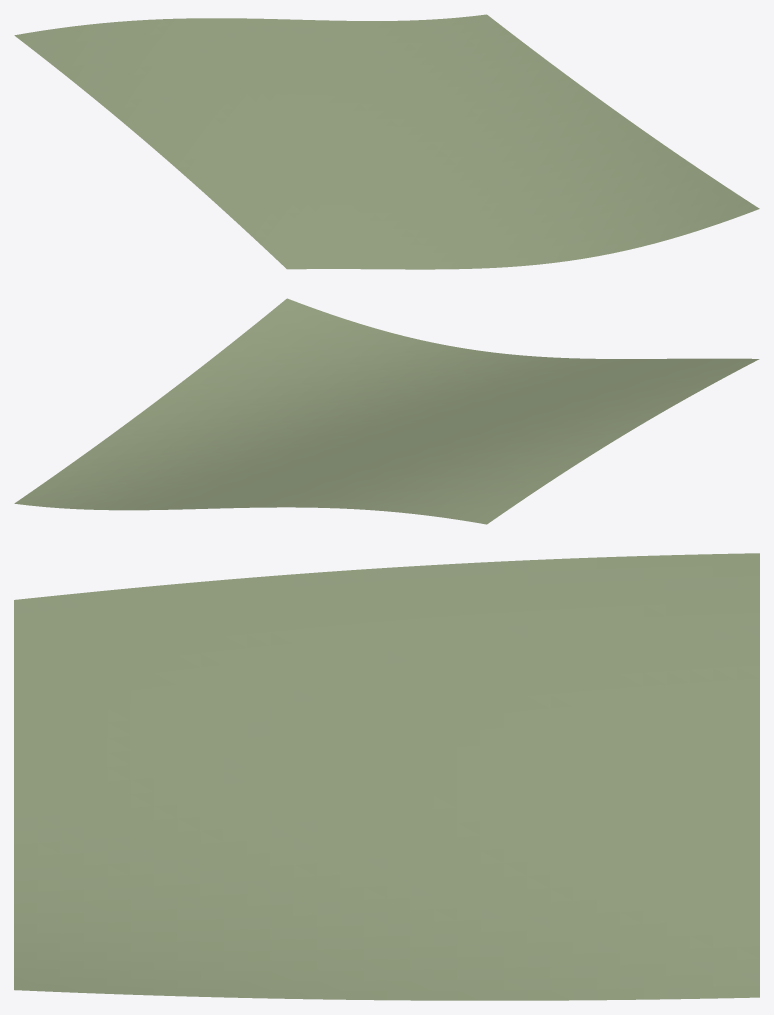
The model's file is expanse-5-27.glb.
3 views of the same model, one above another, from view 1: azimuth 30°, elevation 25°; view 2: azimuth 150°, elevation 25°; view 3: azimuth 270°, elevation 25° (orthographic). The views are drawn at different scales.
Parts seen in each view (by area): view 1: expanse-5-27; view 2: expanse-5-27; view 3: expanse-5-27.
Part boxes in pixels (x1=…): expanse-5-27: x1=14, y1=14, x2=759, y2=269; expanse-5-27: x1=14, y1=298, x2=759, y2=524; expanse-5-27: x1=14, y1=553, x2=759, y2=1000.
Size of the model in its own units: 256 by 50.79 by 256.
